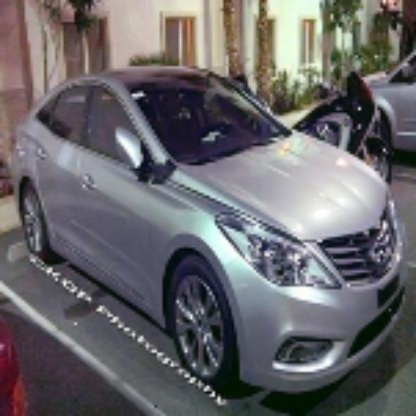Vehicle: (10, 63, 408, 398)
